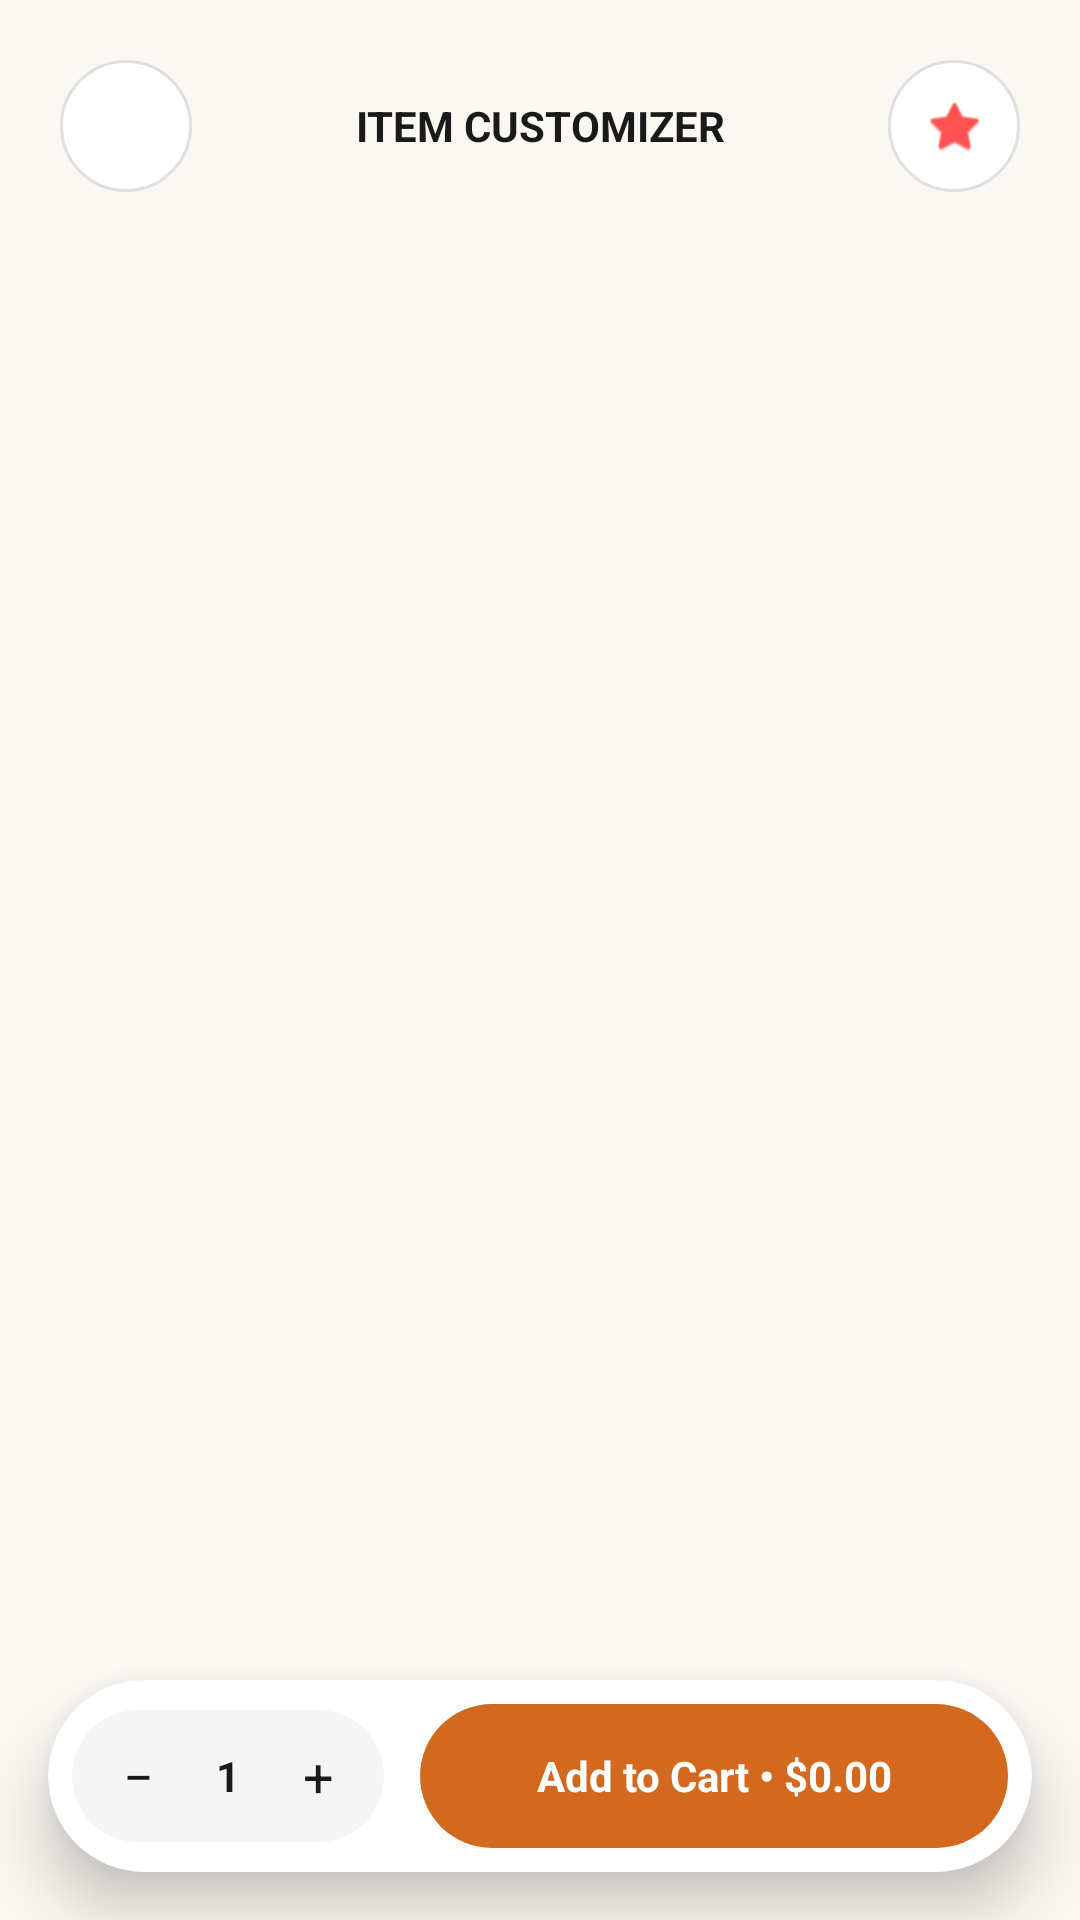

Named icons in this screenshot (1080x1920) and their bounding boxes, box(x1, y1, x2, y2):
star on: box(888, 60, 1020, 192)
